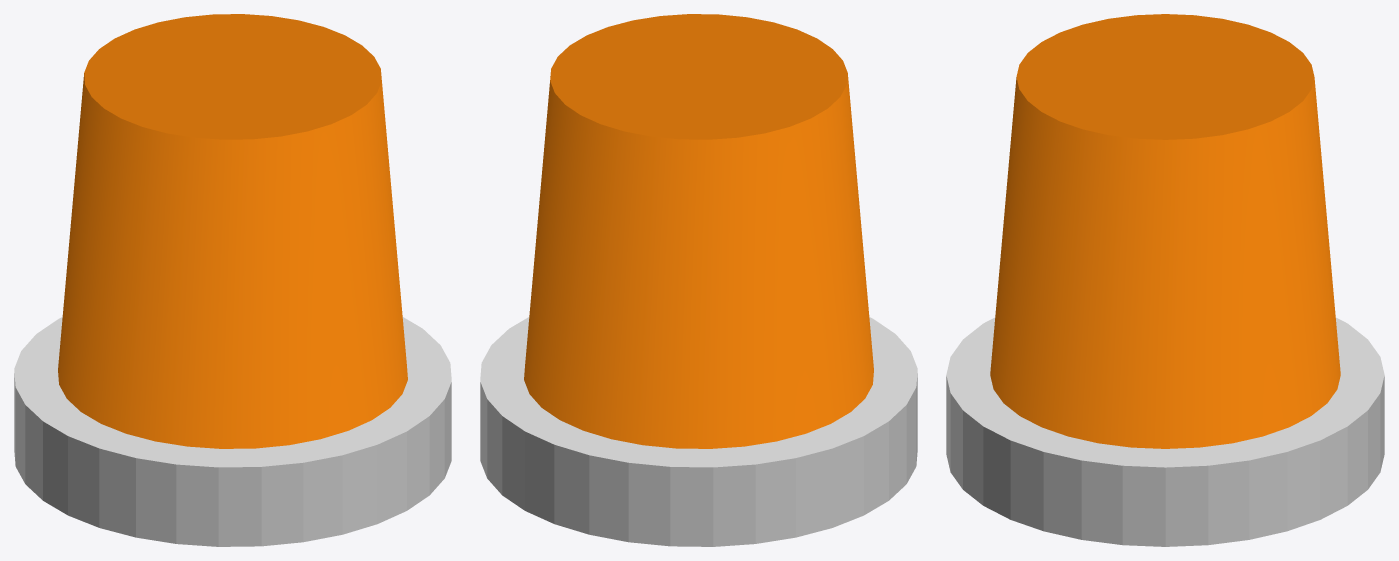
Rendered from CautionLight_Mesh.fbx.
3 renders of one model, left to right at view 1: azimuth 30°, elevation 25°; view 2: azimuth 150°, elevation 25°; view 3: azimuth 270°, elevation 25°, orthographic.
Parts seen in each view (by area): view 1: CautionLight; view 2: CautionLight; view 3: CautionLight.
Boxes of the visible parts, x1,y1,x2,y2 form: CautionLight: [14, 14, 451, 546]; CautionLight: [480, 14, 917, 546]; CautionLight: [946, 14, 1384, 546].
Size of the model in its own units: 40 by 38 by 40.
